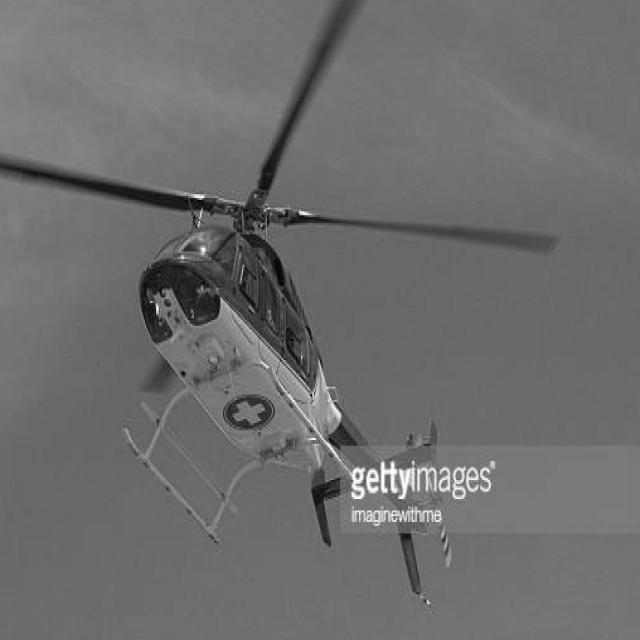helicopter: (1, 1, 559, 590)
